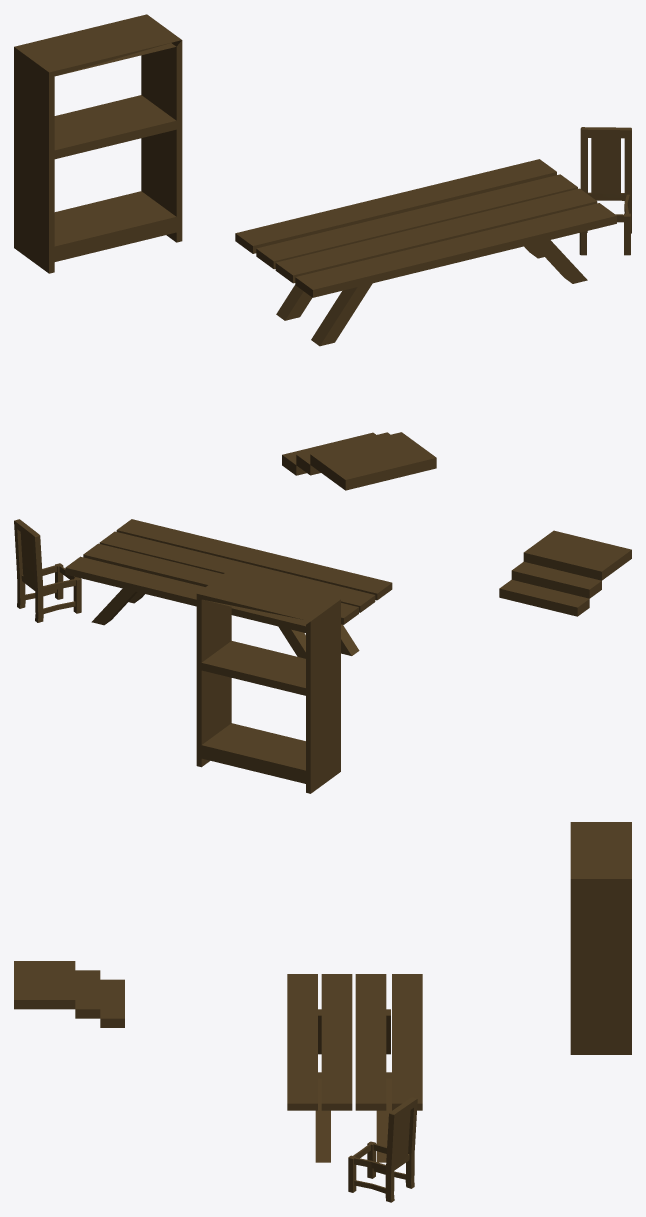
The model's file is WoodUV_FencetoManor.obj.
3 renders of one model, top to bottom at view 1: azimuth 30°, elevation 25°; view 2: azimuth 150°, elevation 25°; view 3: azimuth 270°, elevation 25°, orthographic. The views are drawn at different scales.
Visible parts, largest first — view 1: Bookshelf1 Bookshelf2, Table pCube5, Table pCube6, Table pCube4, Table pCube3, Stairs, pCube11 Chair, Table pCube8, pCube9 Table, Table pCube7; view 2: Bookshelf1 Bookshelf2, Stairs, Table pCube5, Table pCube4, Table pCube6, pCube11 Chair, Table pCube3, Table pCube10, Table pCube7; view 3: Bookshelf1 Bookshelf2, Stairs, Table pCube4, Table pCube3, Table pCube5, Table pCube6, pCube11 Chair, pCube9 Table, Table pCube10.
Boxes of the visible parts, x1=… form: Bookshelf1 Bookshelf2: x1=14, y1=14, x2=182, y2=273; Table pCube5: x1=295, y1=203, x2=616, y2=297; Table pCube6: x1=235, y1=159, x2=556, y2=253; Table pCube4: x1=275, y1=188, x2=597, y2=283; Table pCube3: x1=256, y1=174, x2=577, y2=269; Stairs: x1=282, y1=432, x2=436, y2=490; pCube11 Chair: x1=579, y1=127, x2=631, y2=255; Table pCube8: x1=311, y1=283, x2=372, y2=346; pCube9 Table: x1=533, y1=240, x2=587, y2=283; Table pCube7: x1=276, y1=285, x2=312, y2=320; Bookshelf1 Bookshelf2: x1=196, y1=571, x2=340, y2=793; Stairs: x1=499, y1=530, x2=631, y2=616; Table pCube5: x1=116, y1=519, x2=392, y2=600; Table pCube4: x1=99, y1=531, x2=375, y2=612; Table pCube6: x1=65, y1=556, x2=305, y2=632; pCube11 Chair: x1=14, y1=519, x2=81, y2=622; Table pCube3: x1=83, y1=543, x2=358, y2=624; Table pCube10: x1=91, y1=588, x2=137, y2=625; Table pCube7: x1=278, y1=626, x2=305, y2=658; Bookshelf1 Bookshelf2: x1=570, y1=822, x2=631, y2=1054; Stairs: x1=14, y1=961, x2=124, y2=1027; Table pCube4: x1=321, y1=974, x2=352, y2=1110; Table pCube3: x1=355, y1=974, x2=386, y2=1110; Table pCube5: x1=287, y1=974, x2=317, y2=1110; Table pCube6: x1=392, y1=974, x2=422, y2=1110; pCube11 Chair: x1=348, y1=1097, x2=417, y2=1202; pCube9 Table: x1=315, y1=1072, x2=330, y2=1162; Table pCube10: x1=376, y1=1072, x2=391, y2=1162.
Bounding box in the file's own units: 16.56 × 6.32 × 20.11.
